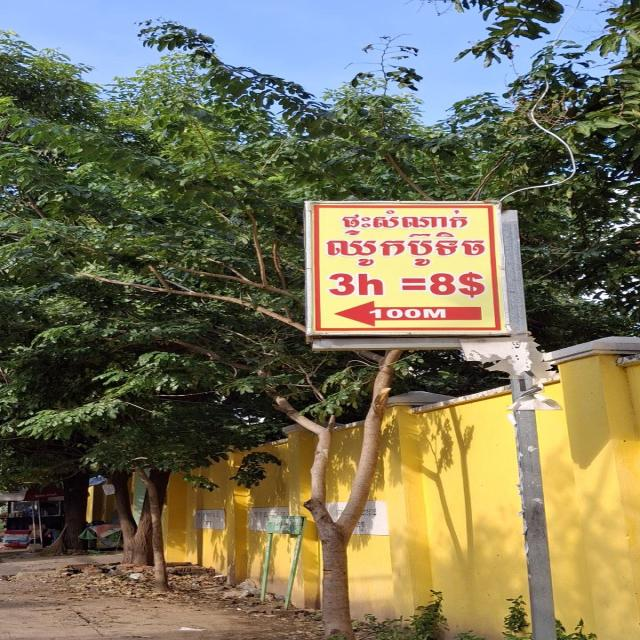Yolov11kh: (320, 230, 492, 269), (325, 207, 474, 238)
